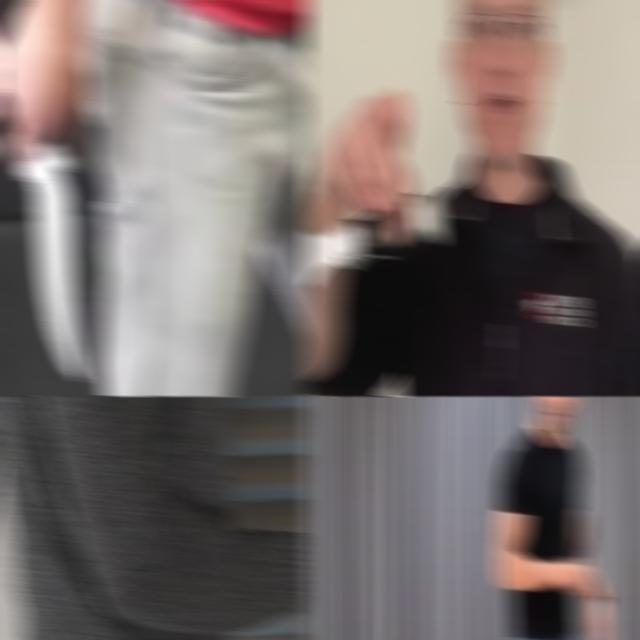Knife: (14, 144, 88, 381)
Knife_Handle: (5, 2, 109, 383), (303, 87, 446, 311), (555, 510, 593, 594)
